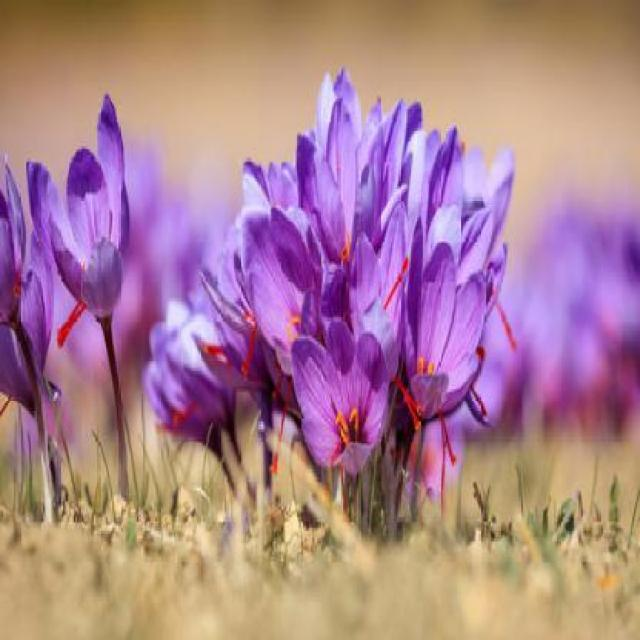saffron open: (27, 97, 128, 358), (294, 319, 391, 474)
